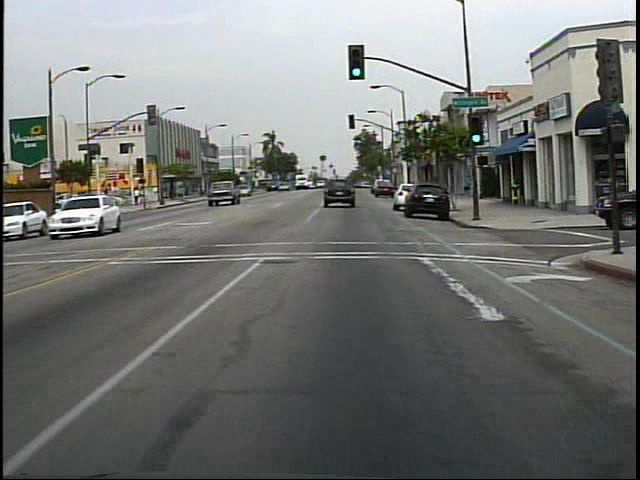person: (136, 184, 141, 207)
